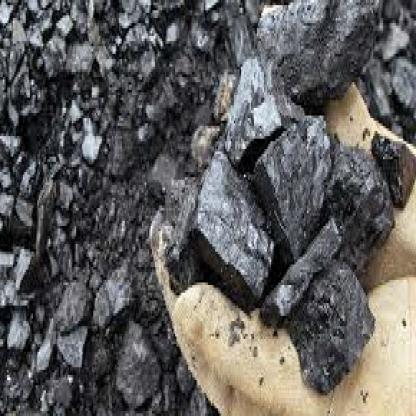Sedimentary_coal: (175, 141, 268, 311), (298, 249, 386, 378), (268, 110, 339, 252), (367, 125, 415, 206)
